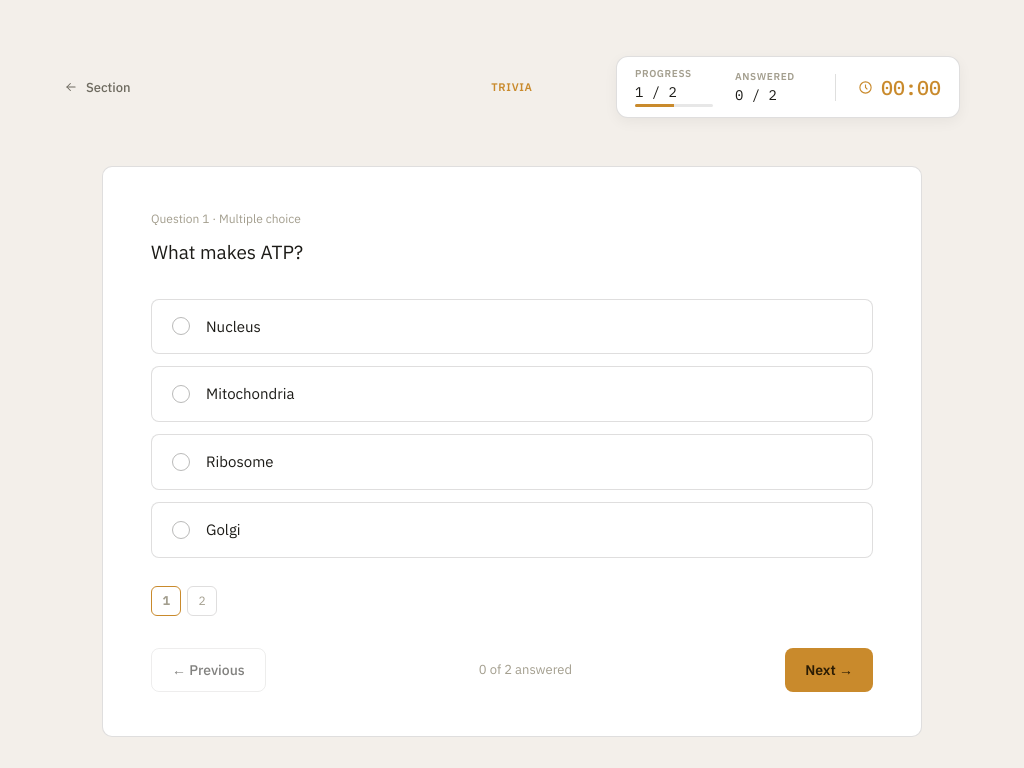
Test: QuizPage in Trivia › shows the right option and lets the pet console the student after a wrong pick
The image size is (1024, 768).
Step 1. Click the radio button "Nucleus" → (512, 326), box [151, 298, 873, 354]
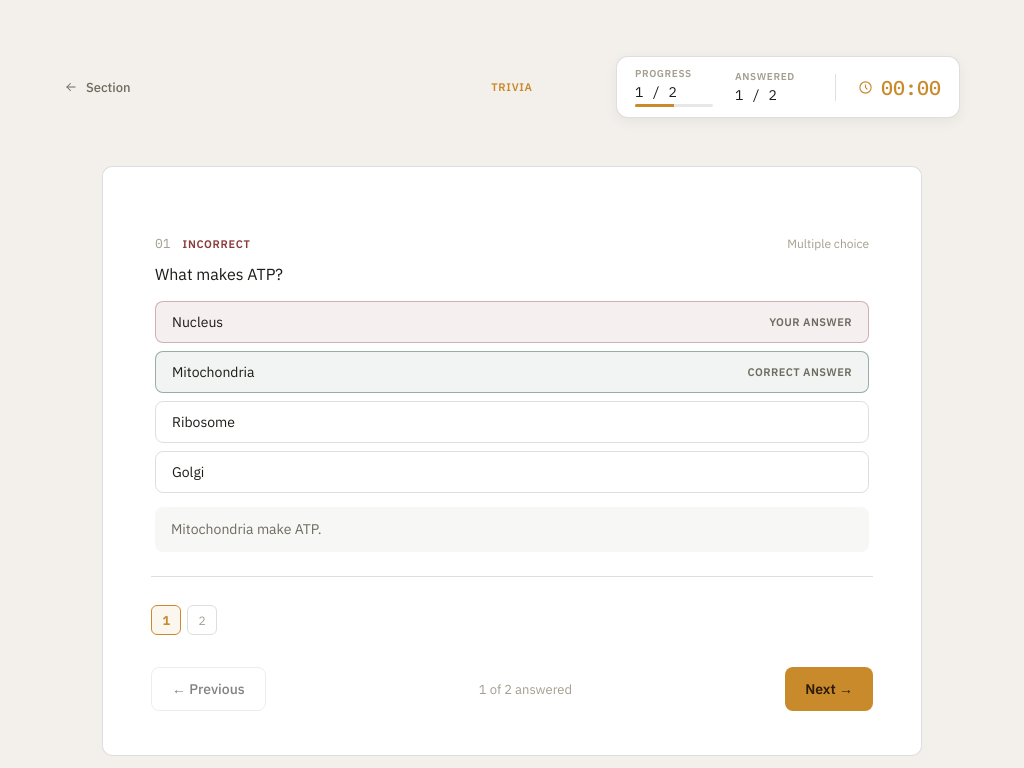
Expected: the text "Incorrect" is shown, [183, 236, 250, 250]
Expected: the text "Correct answer" is shown, [748, 365, 852, 379]
